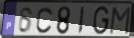6: (17, 7, 34, 34)
8: (56, 5, 72, 36)
C: (35, 6, 54, 35)
G: (91, 6, 111, 37)
I: (77, 6, 86, 35)
M: (108, 6, 132, 36)
